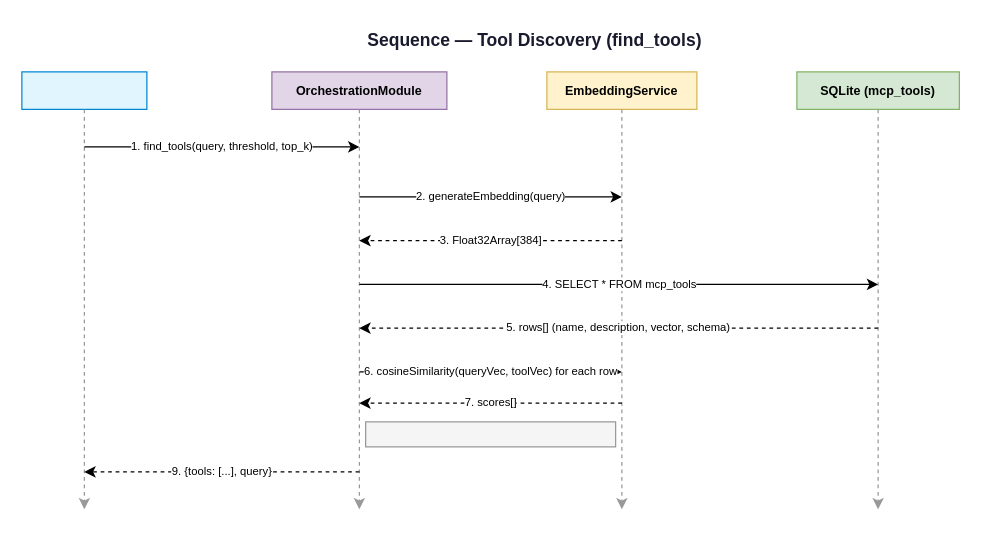
Image size: 981x541. Some labels were removed from this diagram. The box of each missing label's shape, as (x1, y1, x2, y2) in pixels:
8. Sort by score, filter threshold, take top_k: (364, 421, 616, 447)
AI Agent: (21, 71, 147, 109)
